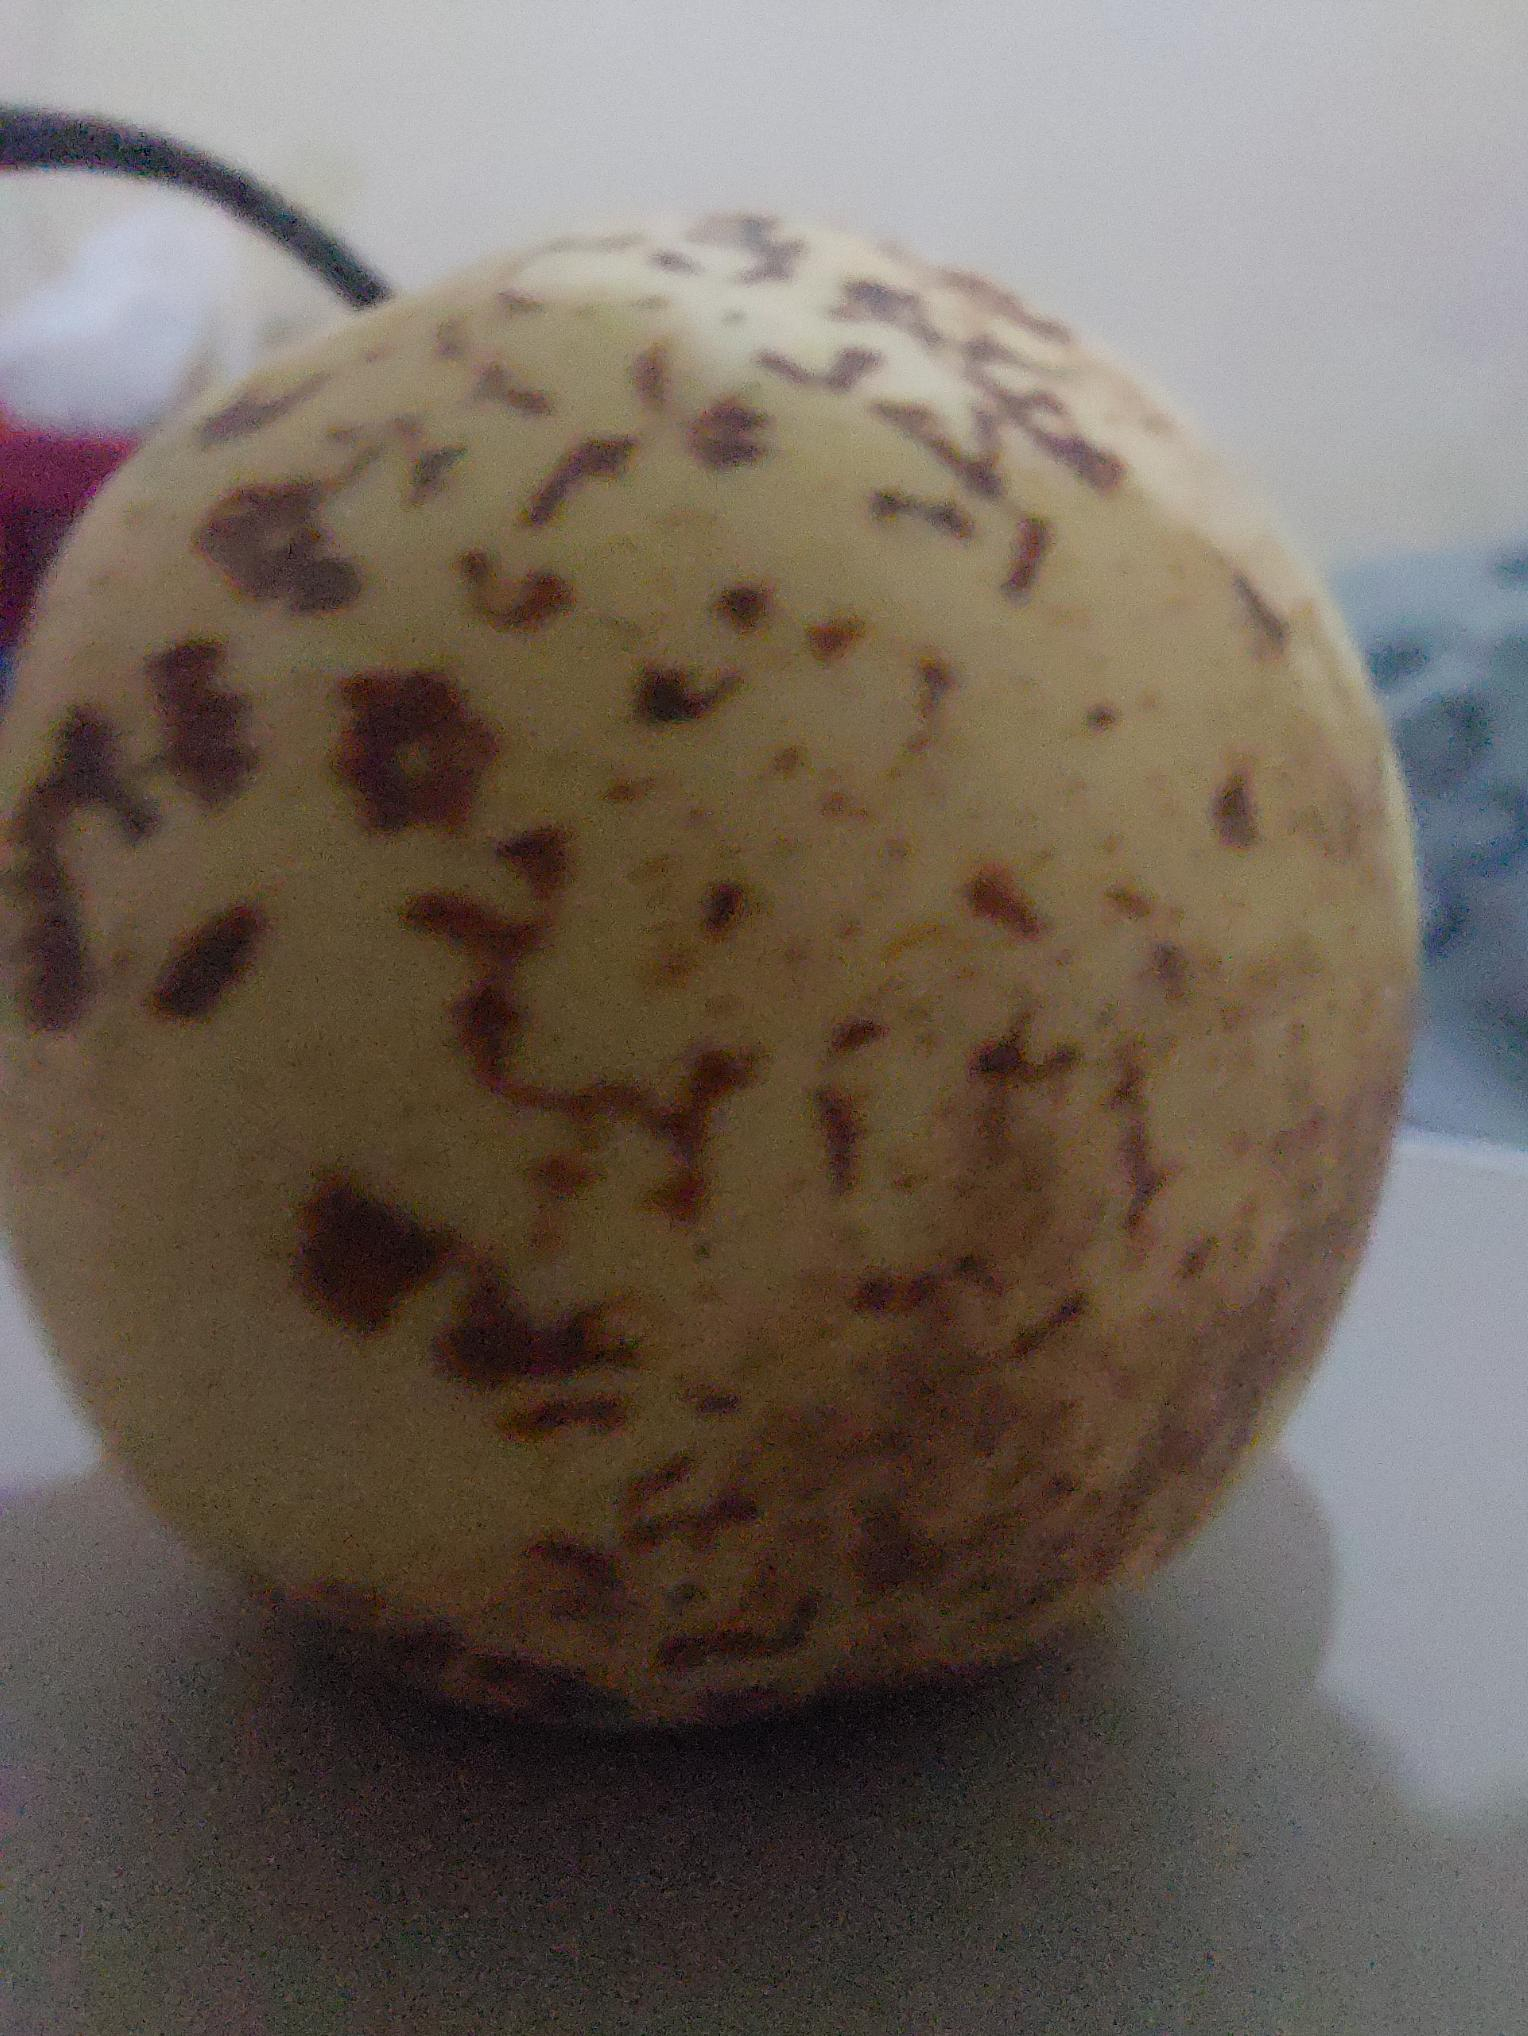Bad Pear: (0, 201, 1419, 1742)
